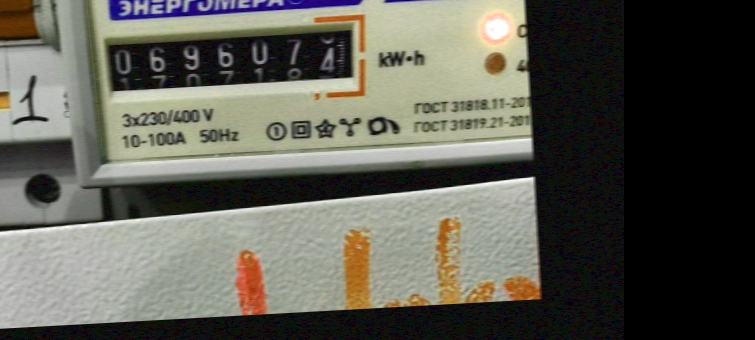0: (112, 47, 132, 77), (248, 38, 268, 66)
4: (316, 47, 336, 76)
6: (215, 40, 234, 69), (146, 46, 165, 74)
7: (283, 36, 303, 67)
9: (180, 44, 199, 73)
screen: (90, 11, 373, 113)
